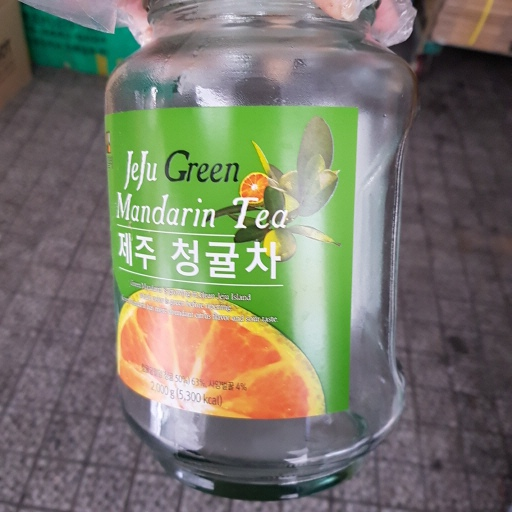Glass_5: (99, 2, 413, 497)
